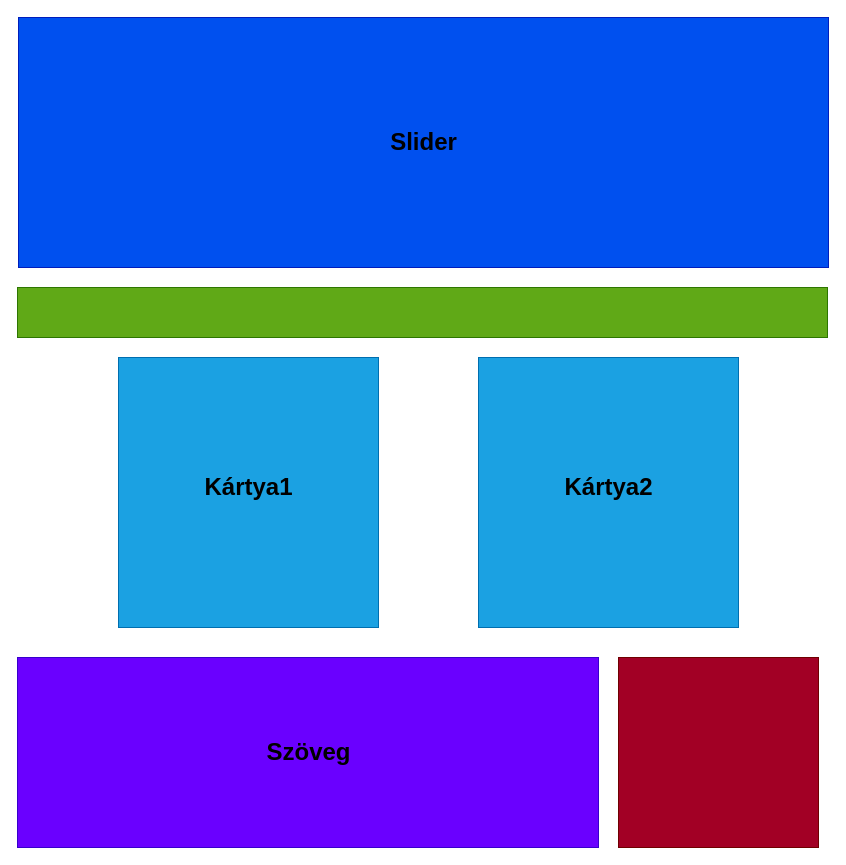
This 846x865 diagram has some shape labels left out. The box of each missing label's shape, as (x1, y1, x2, y2) in pixels:
Kép: (618, 656, 818, 848)
Navbar: (16, 286, 828, 338)
